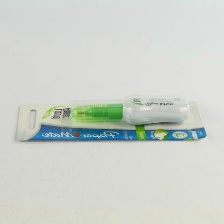book: (11, 98, 210, 143)
correction_fluid: (71, 94, 192, 127)
